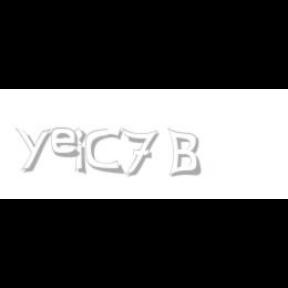7: (122, 128, 160, 178)
B: (167, 128, 201, 178)
C: (86, 128, 122, 174)
e: (52, 128, 84, 158)
i: (74, 128, 90, 176)
y: (15, 128, 55, 172)
